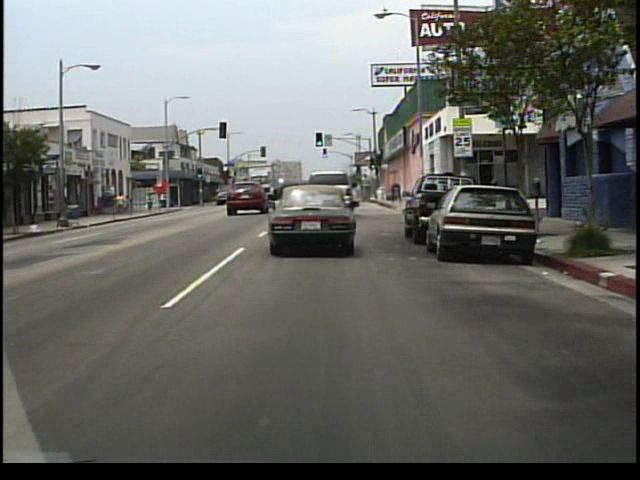person: (121, 193, 130, 217), (146, 191, 155, 211), (130, 194, 137, 215)
